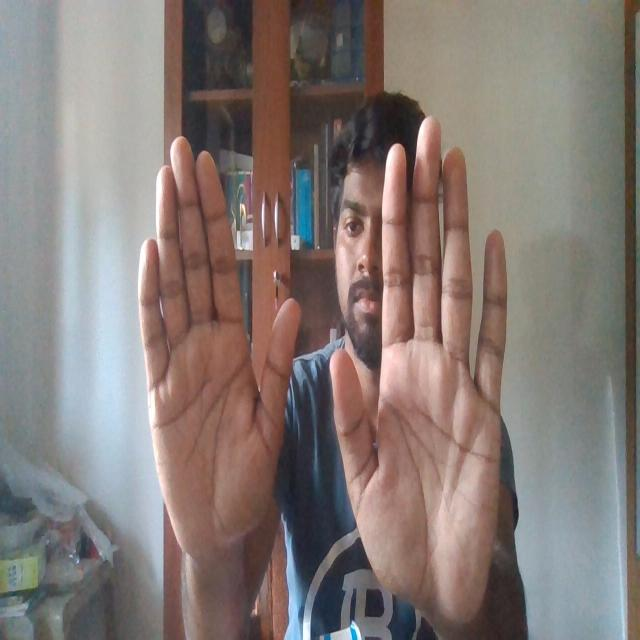ThankYou: (127, 106, 517, 616)
